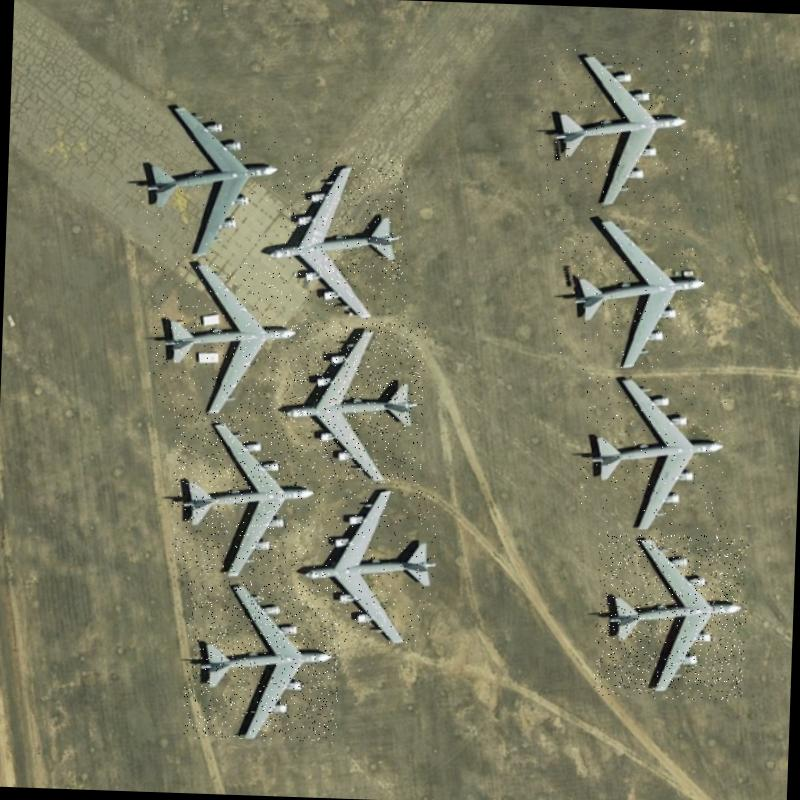A8: (532, 46, 698, 213), (592, 531, 748, 701), (183, 579, 342, 743), (148, 258, 306, 422), (258, 152, 411, 321), (132, 94, 284, 262), (168, 412, 320, 580), (552, 214, 710, 374), (281, 317, 426, 485), (577, 371, 727, 532), (294, 481, 438, 644)
